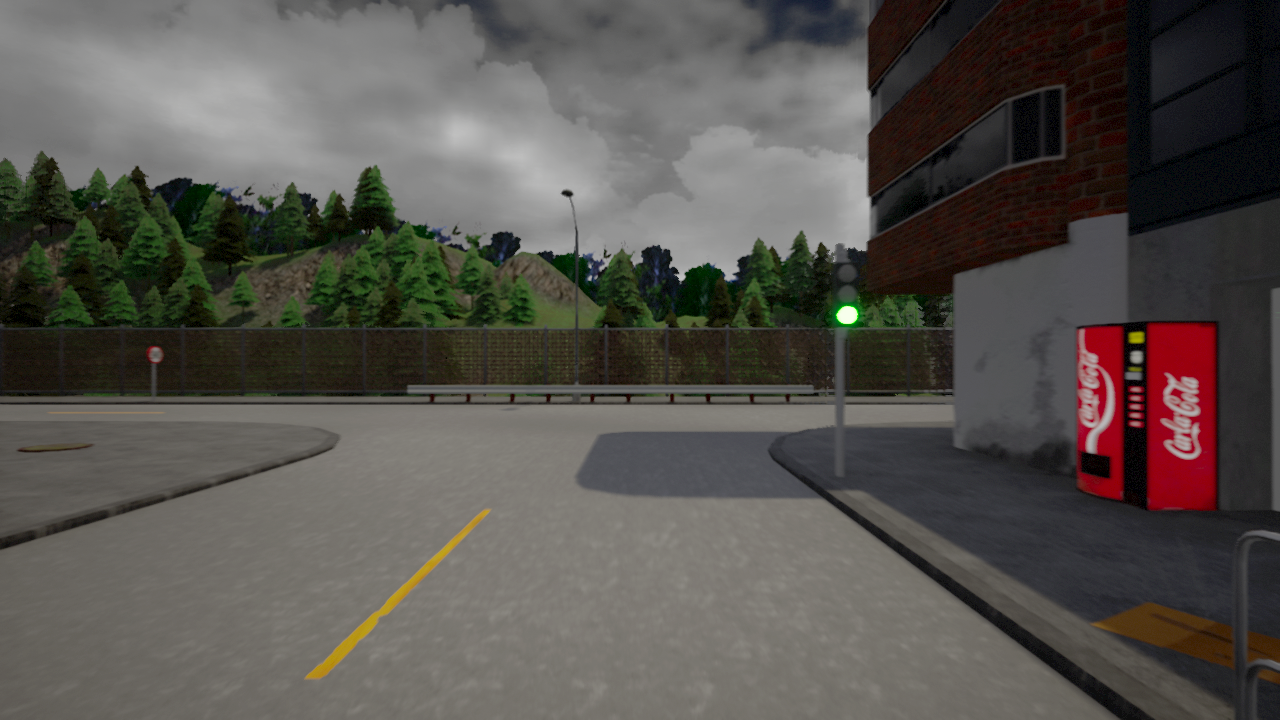green: (828, 259, 862, 329)
